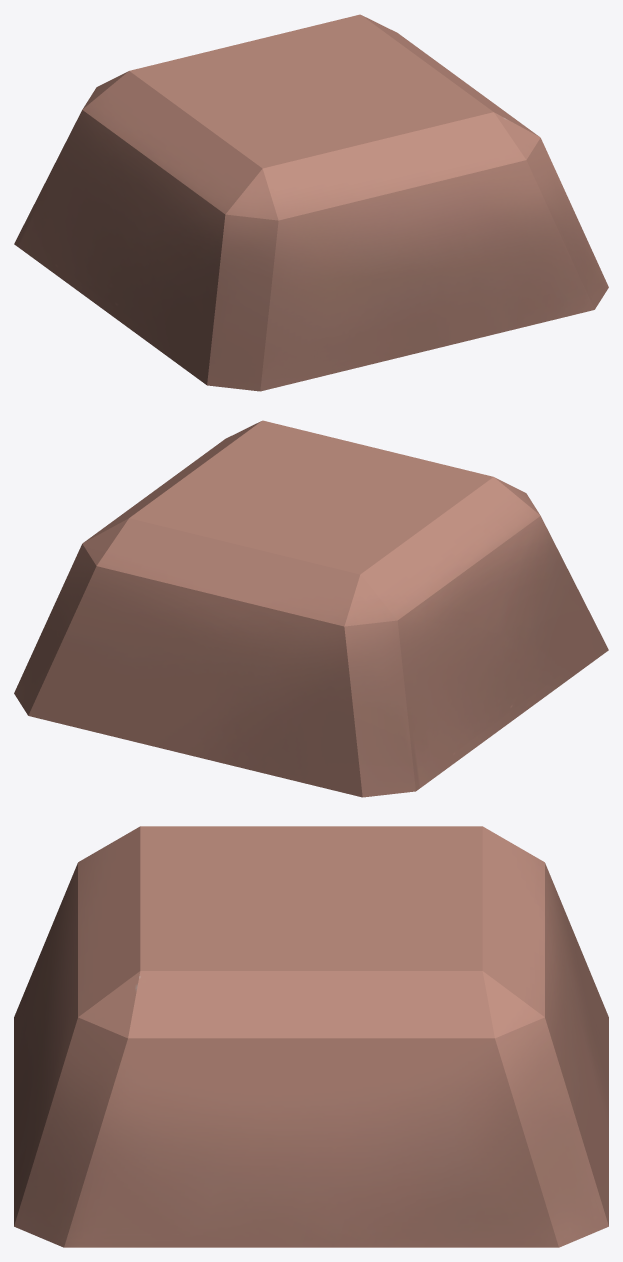
Rendered from rocks 6.fbx.
3 views of the same model, one above another, from view 1: azimuth 30°, elevation 25°; view 2: azimuth 150°, elevation 25°; view 3: azimuth 270°, elevation 25° (orthographic). The views are drawn at different scales.
Visible parts, largest first — view 1: Cube.005; view 2: Cube.005; view 3: Cube.005.
Part boxes in pixels (bbox=[...]): Cube.005: bbox=[14, 14, 608, 391]; Cube.005: bbox=[14, 420, 608, 797]; Cube.005: bbox=[14, 826, 608, 1247].
Bounding box in the file's own units: 106 × 44 × 106.
